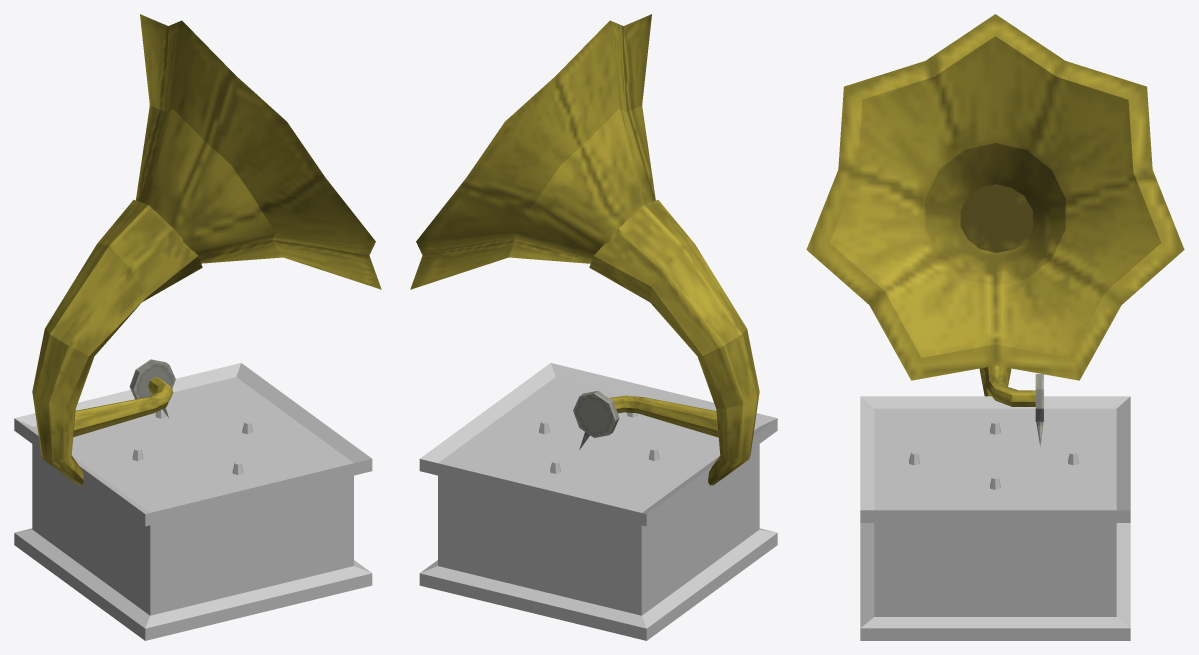
File: AniimGramophone.fbx
The picture shows the model from 3 angles, left to right: view 1: azimuth 30°, elevation 25°; view 2: azimuth 150°, elevation 25°; view 3: azimuth 270°, elevation 25°; orthographic projection. The views are drawn at different scales.
Visible parts, largest first — view 1: pCylinder35, pTorus1, pCylinder25, pCylinder34; view 2: pCylinder35, pTorus1, pCylinder25, pCylinder34; view 3: pTorus1, pCylinder35, pCylinder25, pCylinder34.
Part boxes in pixels (<box>): pCylinder35: <box>14,363,372,640</box>; pTorus1: <box>136,14,381,289</box>; pCylinder25: <box>32,200,202,485</box>; pCylinder34: <box>73,359,175,436</box>; pCylinder35: <box>419,363,777,640</box>; pTorus1: <box>410,14,655,289</box>; pCylinder25: <box>589,200,759,485</box>; pCylinder34: <box>573,391,718,449</box>; pTorus1: <box>806,14,1184,380</box>; pCylinder35: <box>860,396,1130,640</box>; pCylinder25: <box>960,184,1032,396</box>; pCylinder34: <box>984,365,1043,446</box>.
Size of the model in its own units: 289 by 494 by 300.
